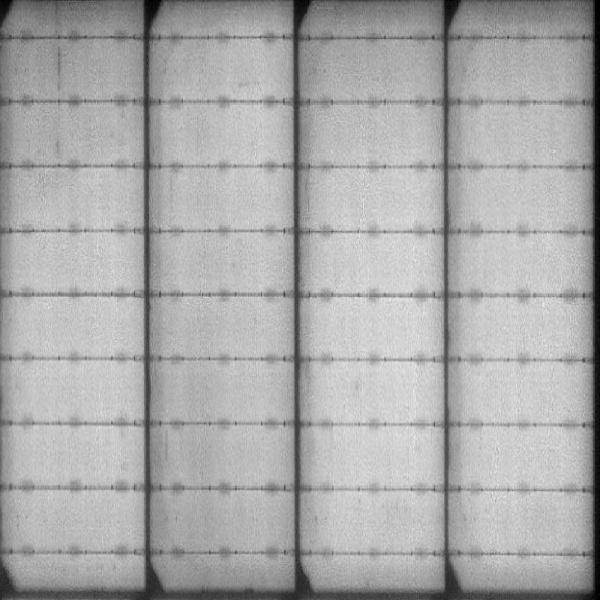scratch: (52, 8, 64, 98)
